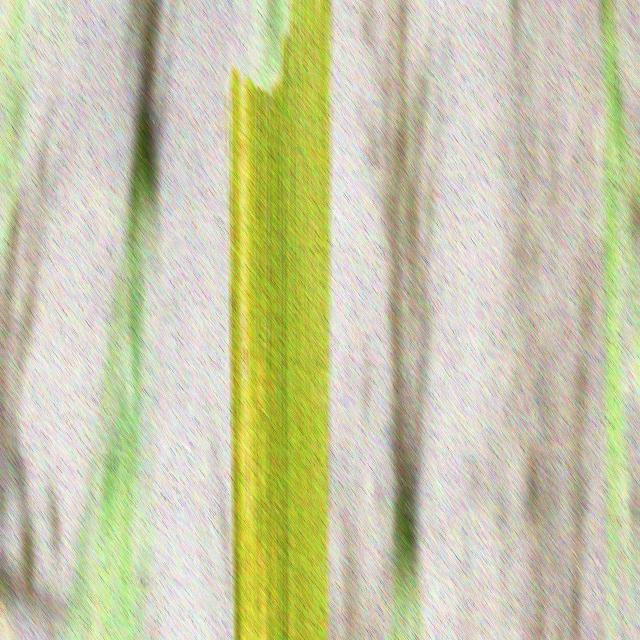BLS: (259, 589, 267, 640), (246, 633, 250, 640)
